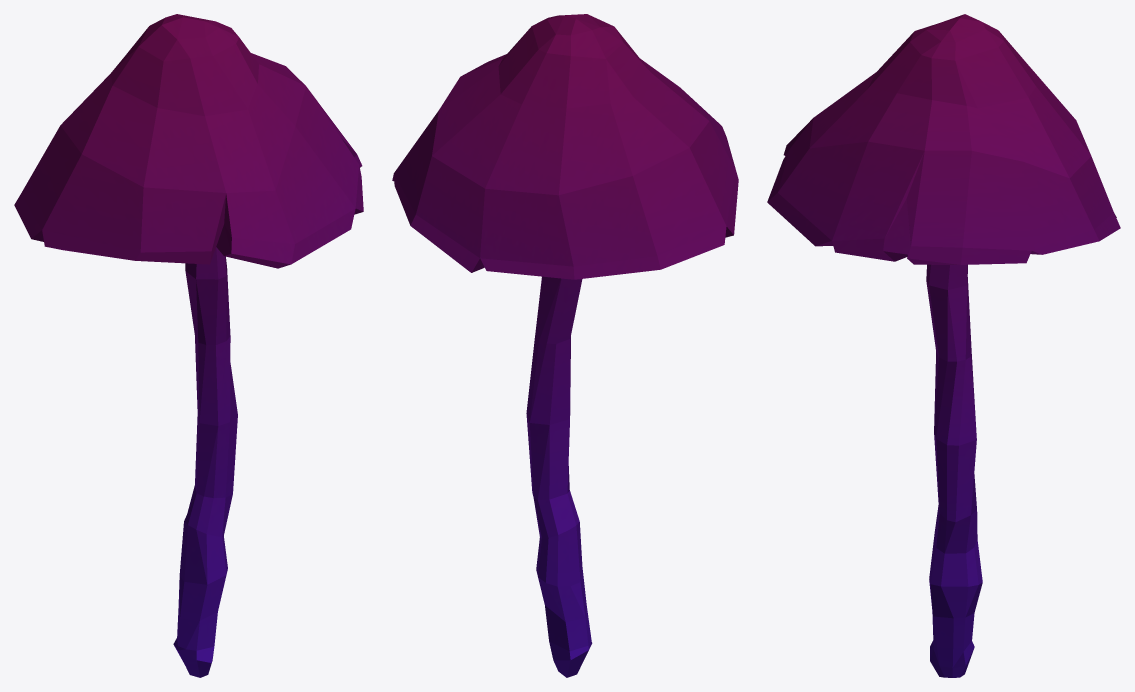
The model's file is mushroom_giant.002.fbx.
3 renders of one model, left to right at view 1: azimuth 30°, elevation 25°; view 2: azimuth 150°, elevation 25°; view 3: azimuth 270°, elevation 25°, orthographic.
Parts seen in each view (by area): view 1: mushroom_giant.002; view 2: mushroom_giant.002; view 3: mushroom_giant.002.
Boxes of the visible parts, x1,y1,x2,y2 form: mushroom_giant.002: (14,14,363,677); mushroom_giant.002: (392,14,738,677); mushroom_giant.002: (767,14,1120,677).
Size of the model in its own units: 103 by 209 by 102.
